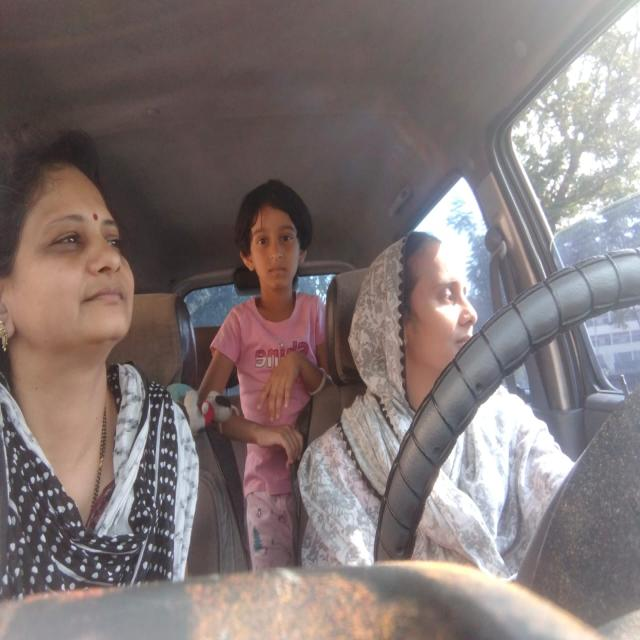LeftRight: (381, 231, 479, 365)
person: (2, 128, 146, 374), (232, 179, 313, 296)
